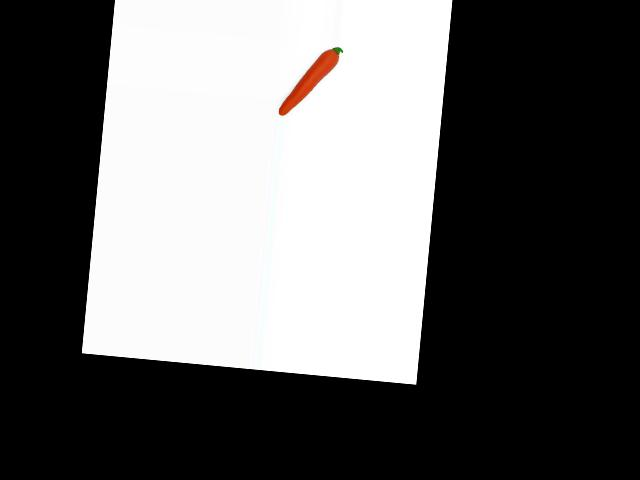carrot: (274, 44, 342, 121)
